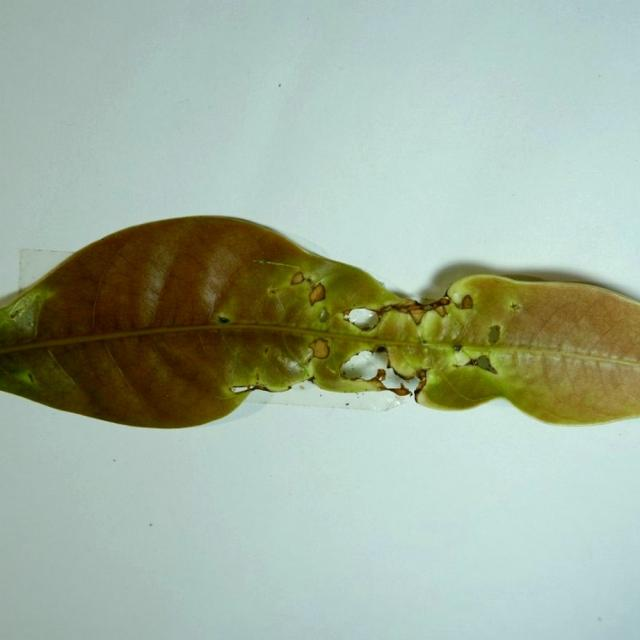Anthracnose: (338, 346, 424, 396), (358, 293, 454, 327), (3, 293, 45, 339), (449, 346, 496, 375), (0, 356, 36, 389), (301, 280, 326, 321), (342, 307, 384, 331), (301, 336, 330, 367), (230, 381, 293, 395), (454, 293, 474, 310), (451, 349, 471, 366), (486, 324, 501, 345), (290, 271, 307, 287), (433, 295, 453, 307), (341, 308, 358, 319), (509, 302, 523, 312), (452, 342, 463, 351), (268, 288, 277, 296)
Mango: (0, 216, 639, 431)
